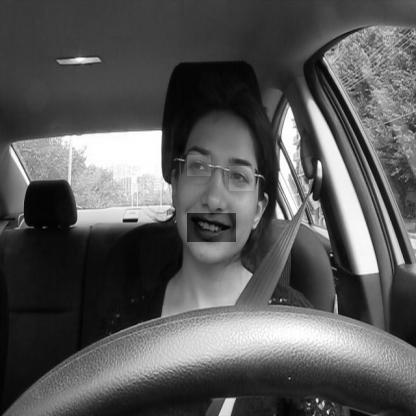seatbelt: (159, 63, 302, 416)
